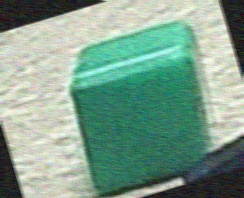green_cube: (49, 20, 234, 193)
